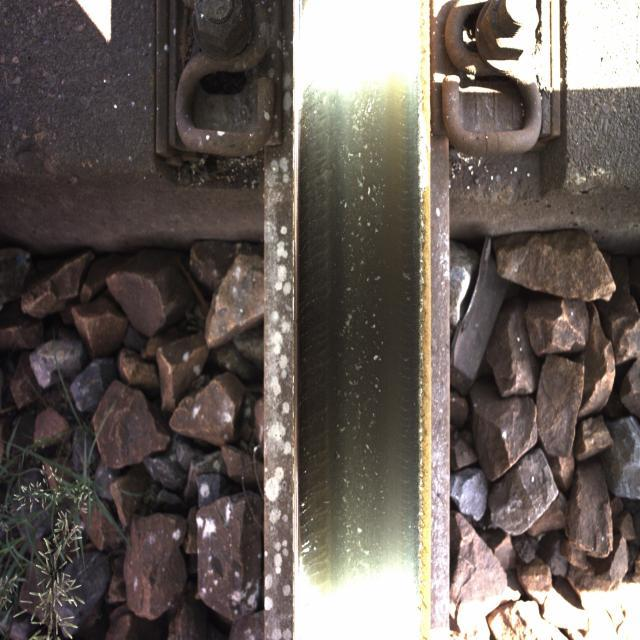normal: (312, 76, 408, 605)
